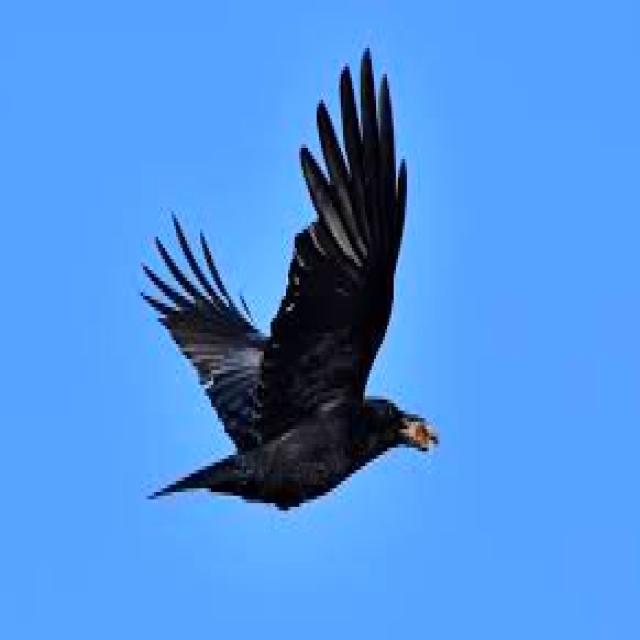crow: (143, 48, 435, 507)
